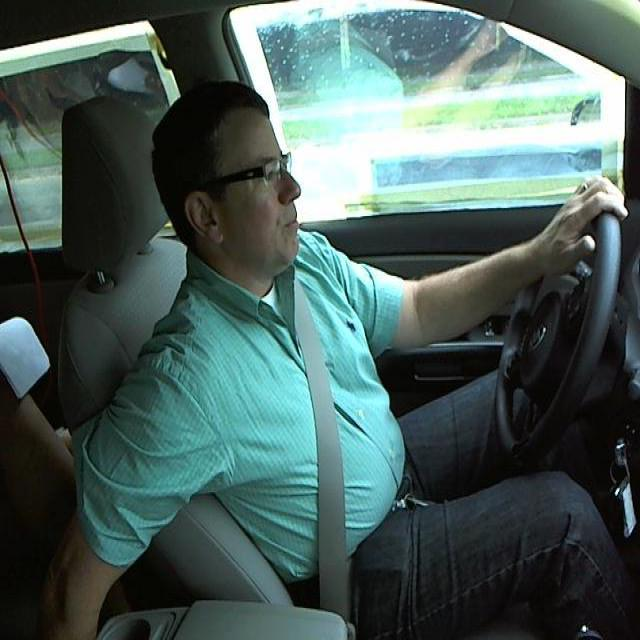seatbelt: (295, 320, 358, 612)
